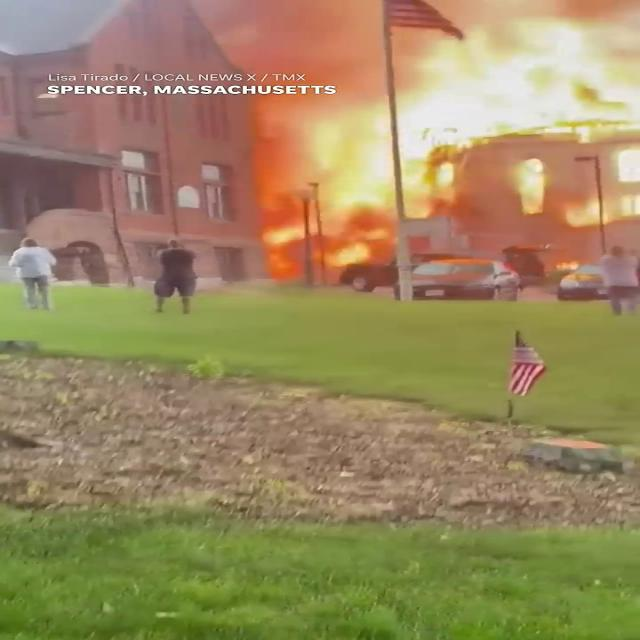Fire: (272, 0, 639, 262)
